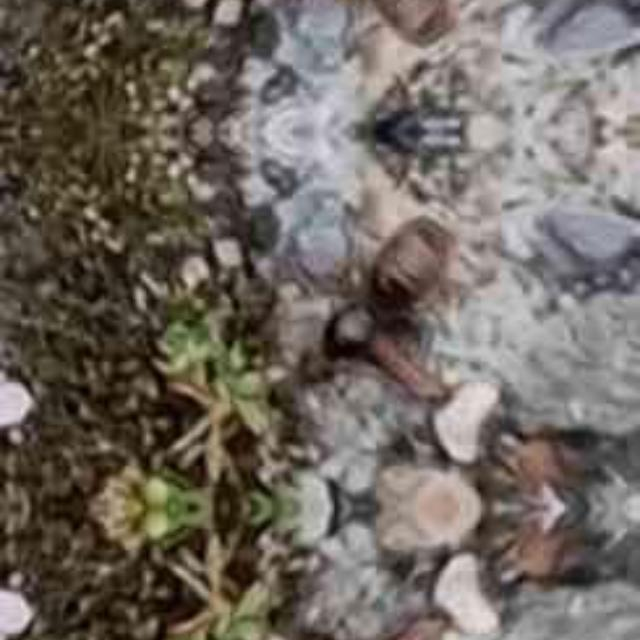Lasius: (278, 203, 466, 389), (278, 0, 466, 58)
